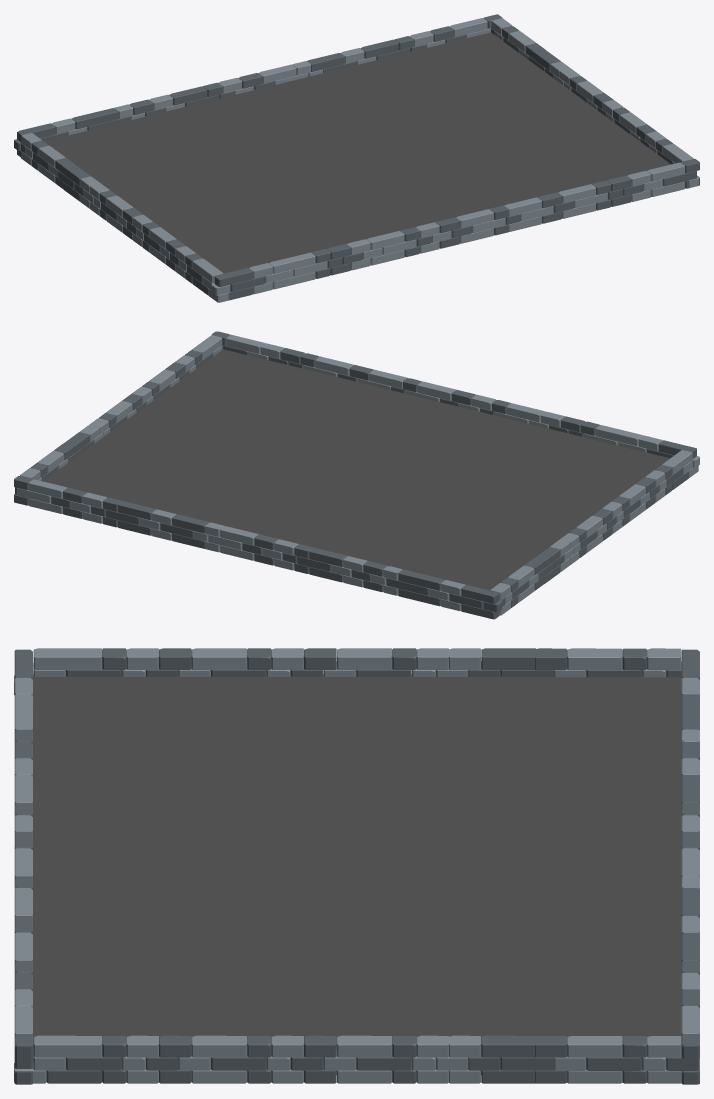
File: L6Ground.fbx
3 renders of one model, top to bottom at view 1: azimuth 30°, elevation 25°; view 2: azimuth 150°, elevation 25°; view 3: azimuth 270°, elevation 25°, orthographic. The views are drawn at different scales.
Visible parts, largest first — view 1: pasted__polySurface6232, polySurface1810; view 2: pasted__polySurface6232, polySurface1810; view 3: pasted__polySurface6232, polySurface1810.
Part boxes in pixels (<box>): pasted__polySurface6232: <box>44,32,670,273</box>; polySurface1810: <box>14,14,699,302</box>; pasted__polySurface6232: <box>43,349,669,590</box>; polySurface1810: <box>14,331,699,619</box>; pasted__polySurface6232: <box>33,676,681,1074</box>; polySurface1810: <box>14,648,699,1084</box>.
Bounding box in the file's own units: 2112 × 99.05 × 1535.
